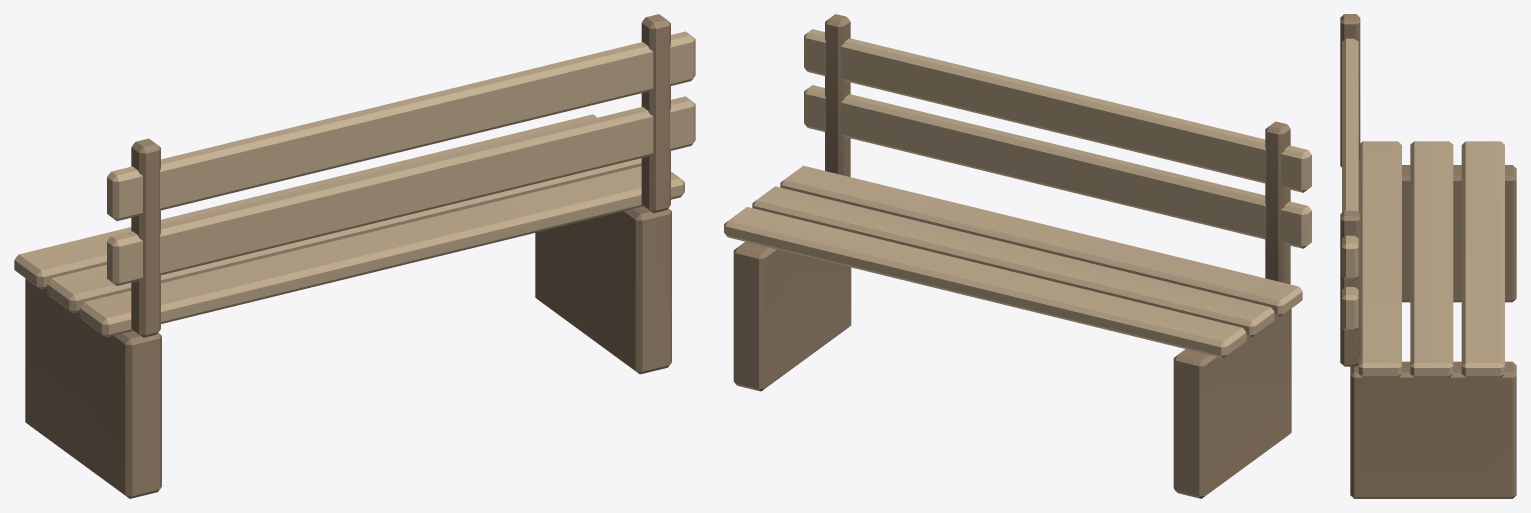
File: furn_garden_bench__oak.glb
The picture shows the model from 3 angles, left to right: view 1: azimuth 30°, elevation 25°; view 2: azimuth 150°, elevation 25°; view 3: azimuth 270°, elevation 25°; orthographic projection. The views are drawn at different scales.
Size of the model in its own units: 1.6 by 0.93 by 0.53.
